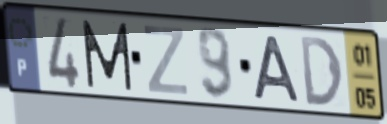4: (45, 14, 83, 91)
9: (195, 24, 236, 103)
A: (252, 33, 303, 105)
D: (297, 34, 346, 109)
M: (79, 17, 135, 93)
Z: (141, 23, 190, 98)
